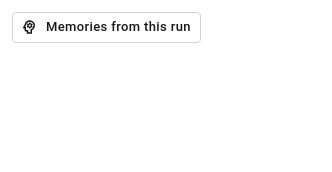
Scenario: RunMemoriesButton › opens Memory filtered to the run when it wrote to one domain
Click the button "Memories from this run" at [106, 27], box [12,12,201,43]
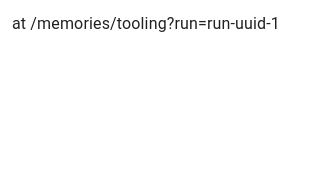
Expected: the text "at /memories/tooling?run=run-uuid-1" is shown, [12,14,280,33]
